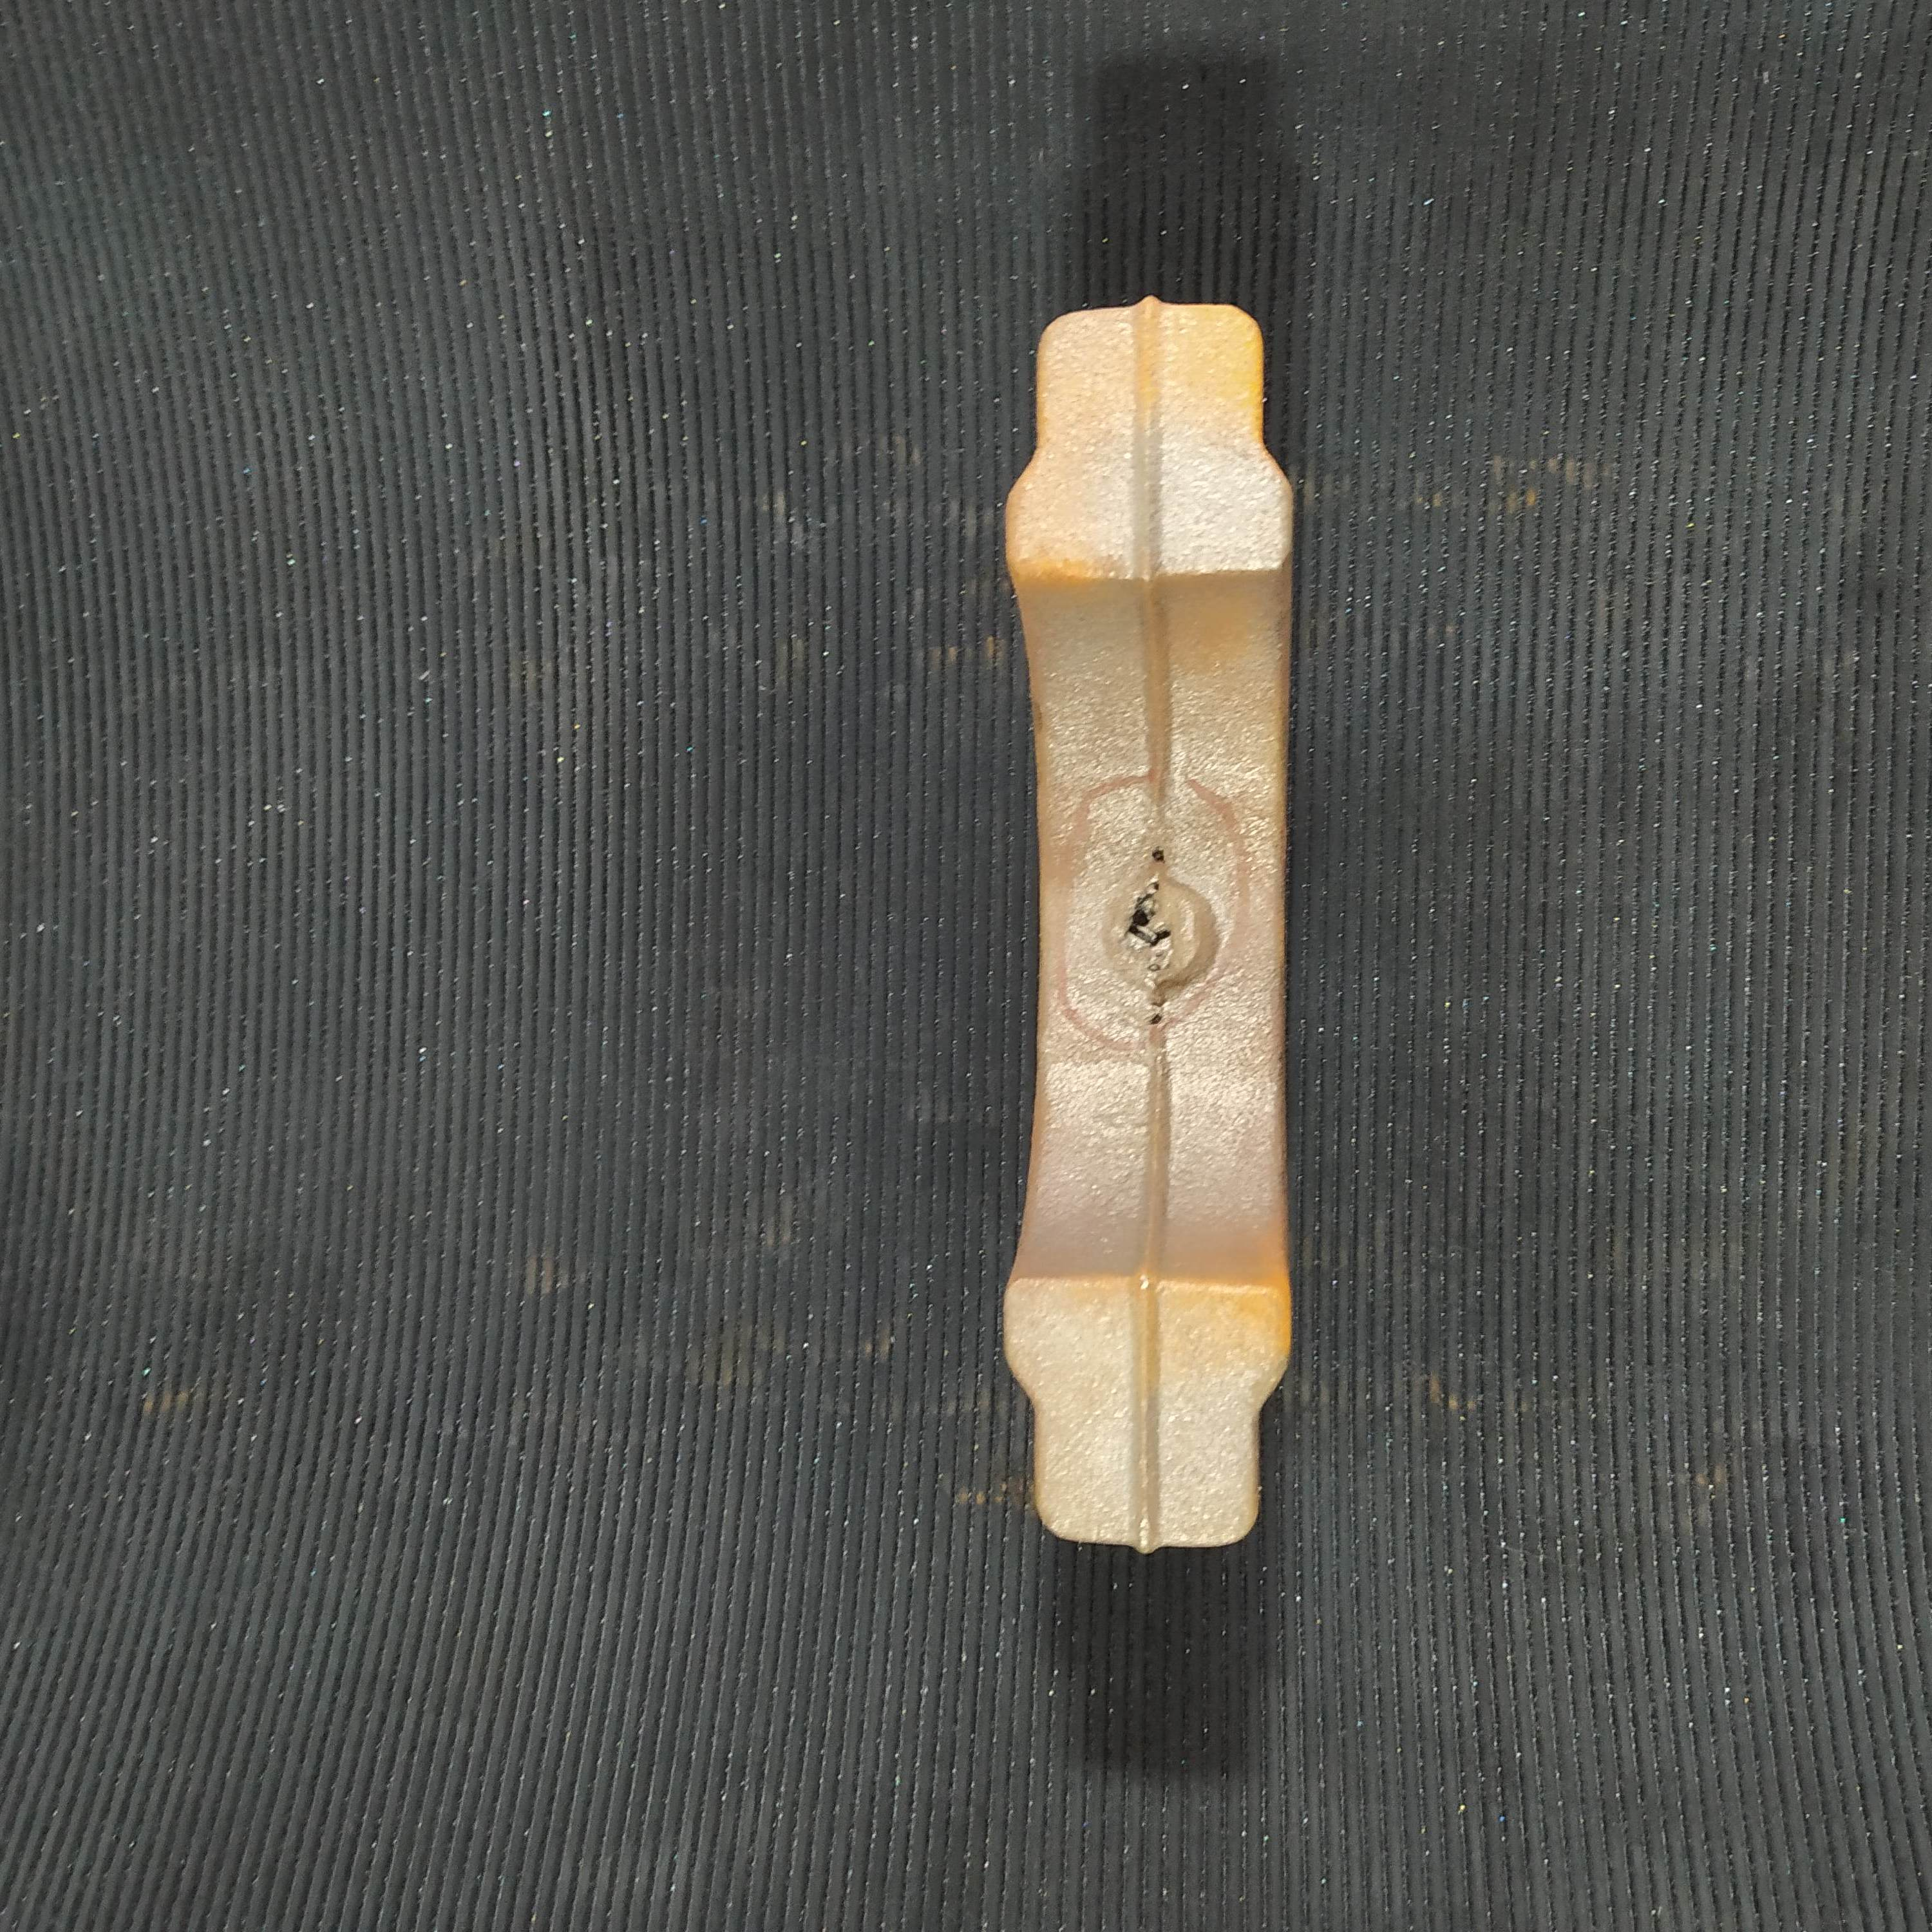buraco: (1127, 886, 1177, 950), (1150, 842, 1171, 874), (1146, 1008, 1173, 1033)
